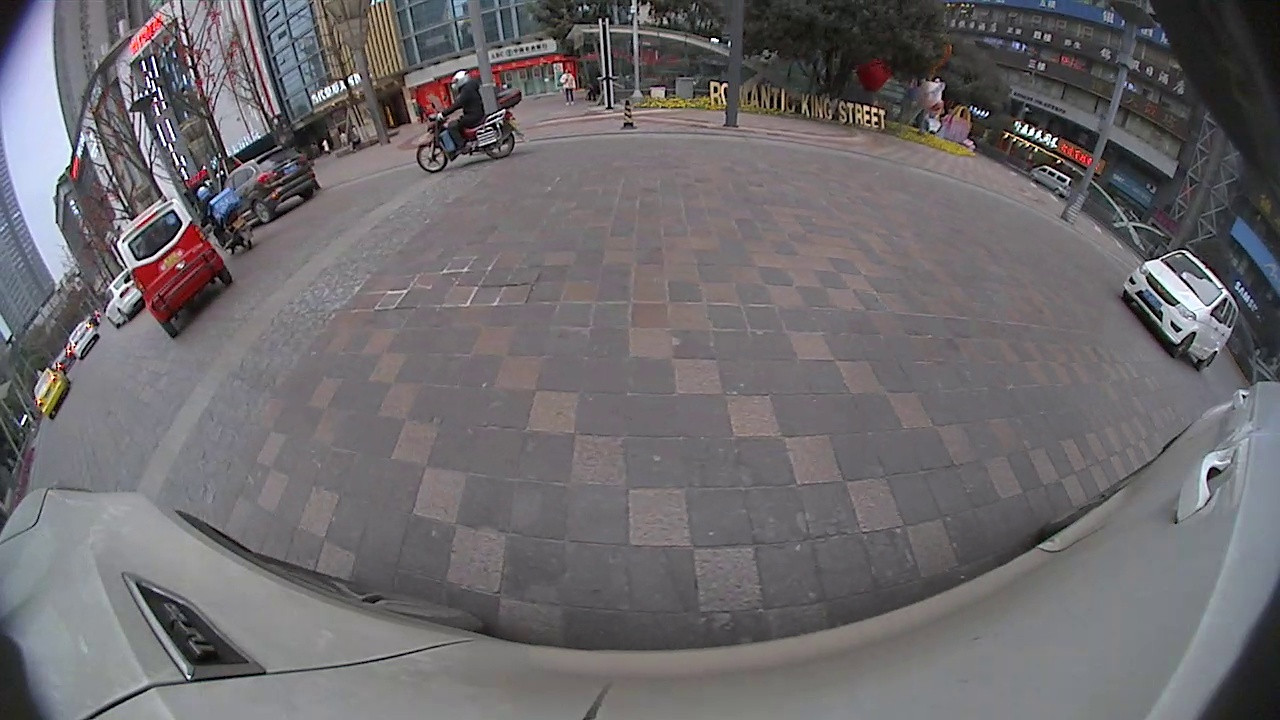car: (1122, 250, 1238, 372), (224, 156, 318, 222), (102, 270, 141, 329), (32, 369, 70, 413), (1029, 167, 1071, 195), (64, 324, 98, 354)
front: (415, 140, 449, 173), (1169, 330, 1200, 361)
person: (564, 72, 572, 100)
rear: (479, 128, 517, 160), (1196, 351, 1221, 376)
rider: (116, 196, 231, 339), (418, 73, 520, 173), (199, 190, 251, 254)
